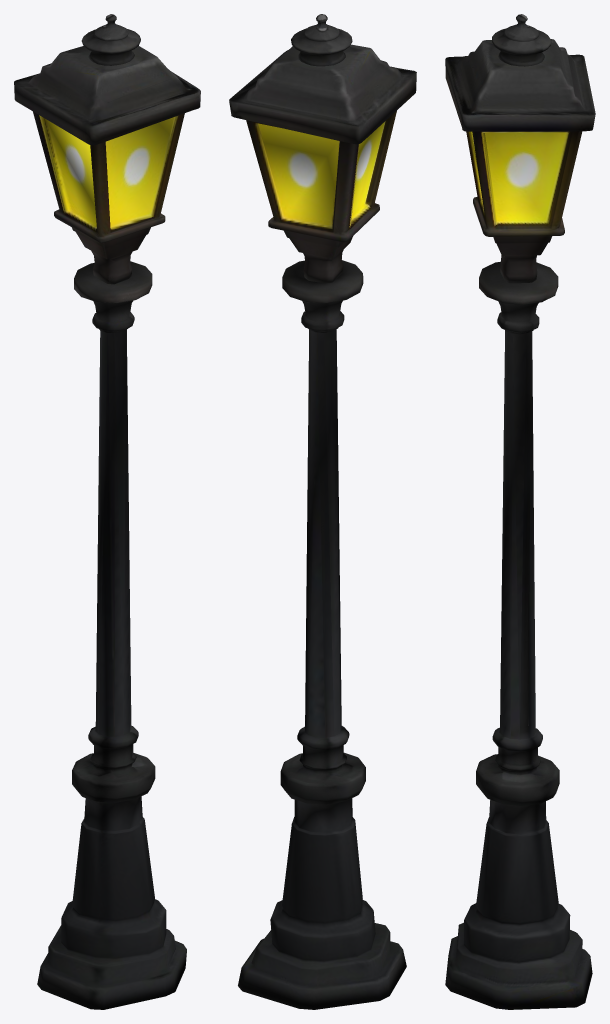
Rendered from Bank_StreetLamp.glb.
3 renders of one model, left to right at view 1: azimuth 30°, elevation 25°; view 2: azimuth 150°, elevation 25°; view 3: azimuth 270°, elevation 25°, orthographic.
Parts seen in each view (by area): view 1: tripo_node_da7eb4b1-3ec4-4722-a989-5a3cefea42f1; view 2: tripo_node_da7eb4b1-3ec4-4722-a989-5a3cefea42f1; view 3: tripo_node_da7eb4b1-3ec4-4722-a989-5a3cefea42f1.
Boxes of the visible parts, x1=… form: tripo_node_da7eb4b1-3ec4-4722-a989-5a3cefea42f1: x1=14, y1=14, x2=200, y2=1009; tripo_node_da7eb4b1-3ec4-4722-a989-5a3cefea42f1: x1=229, y1=14, x2=416, y2=1009; tripo_node_da7eb4b1-3ec4-4722-a989-5a3cefea42f1: x1=445, y1=14, x2=595, y2=1009.
Bounding box in the file's own units: 0.147 × 1 × 0.1412.
1 material, 1 textured.
